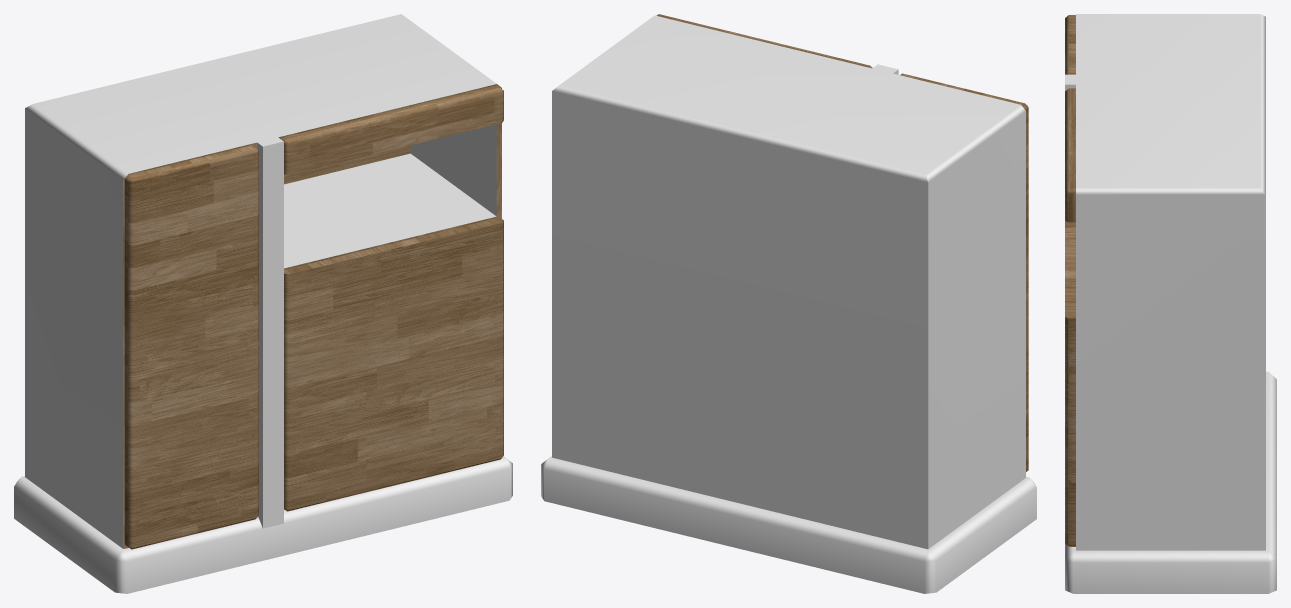
Rendered from wall_cabinet_017.fbx.
3 views of the same model, side by side, from view 1: azimuth 30°, elevation 25°; view 2: azimuth 150°, elevation 25°; view 3: azimuth 270°, elevation 25° (orthographic). The views are drawn at different scales.
Visible parts, largest first — view 1: wall_cabinet_017; view 2: wall_cabinet_017; view 3: wall_cabinet_017.
Part boxes in pixels (box(x1,y1,x2,y2)): wall_cabinet_017: box(14, 14, 512, 593); wall_cabinet_017: box(541, 14, 1036, 593); wall_cabinet_017: box(1065, 14, 1276, 593).
Size of the model in its own units: 209 by 100 by 208.
